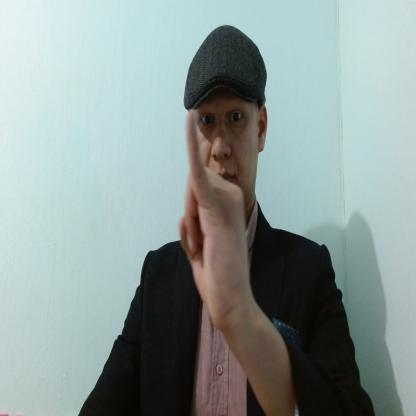I: (178, 109, 249, 328)
